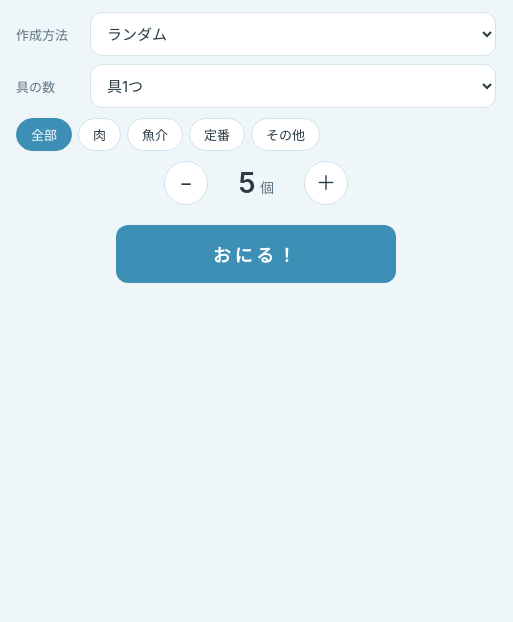
Test case: LotteryScreen › 自分でおにる(手動モード) › 未選択の具があるとエラー表示され recordDraw されない
This screenshot has width=513, height=622.
Select "自分" in the dropdown labelled "作成方法" at coordinates (293, 34), box top-left (90, 12), bottom-right (496, 56)
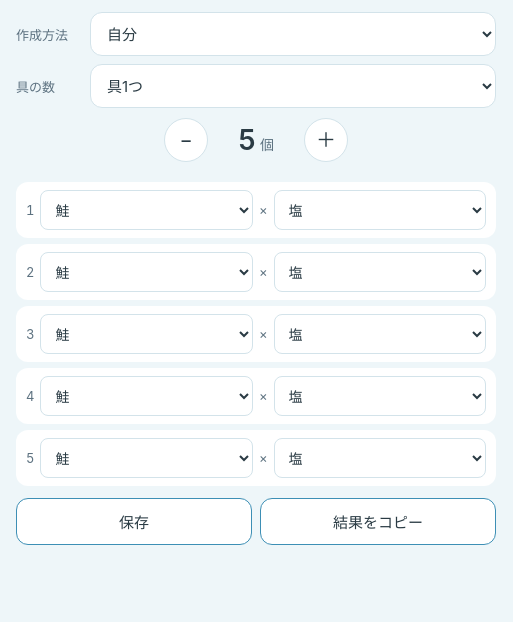
Note: 1行目の具を未選択に
Select "選択してください" in the dropdown named "1個目の具" at coordinates (147, 210), box top-left (40, 190), bottom-right (253, 230)
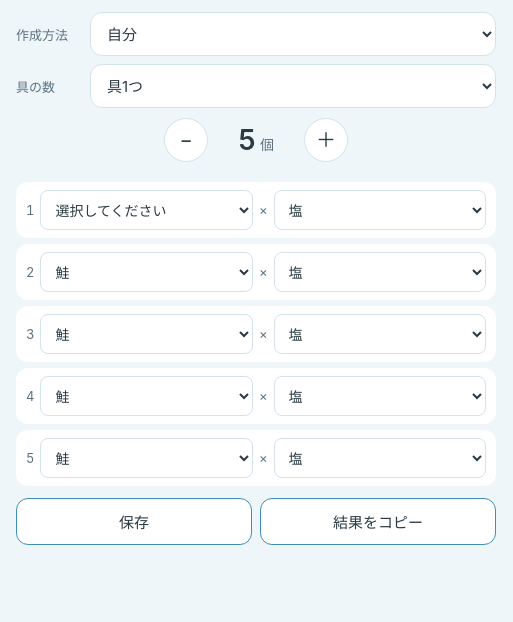
Click the button "保存" at coordinates (134, 522), box top-left (16, 498), bottom-right (252, 545)
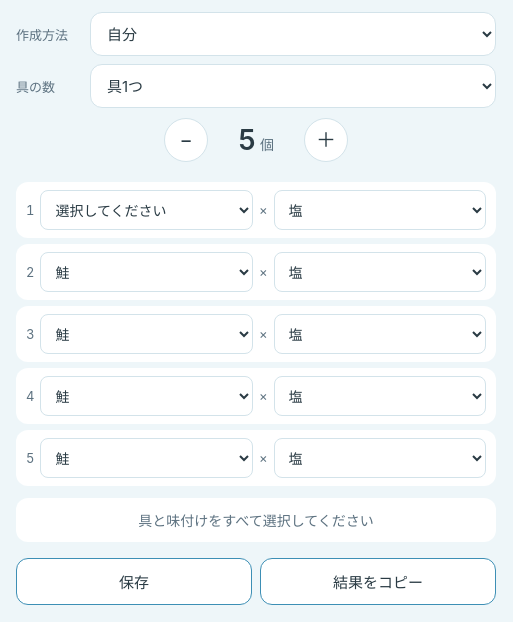
Result: the message shows "選択してください" at top-left (138, 512), bottom-right (374, 529)
